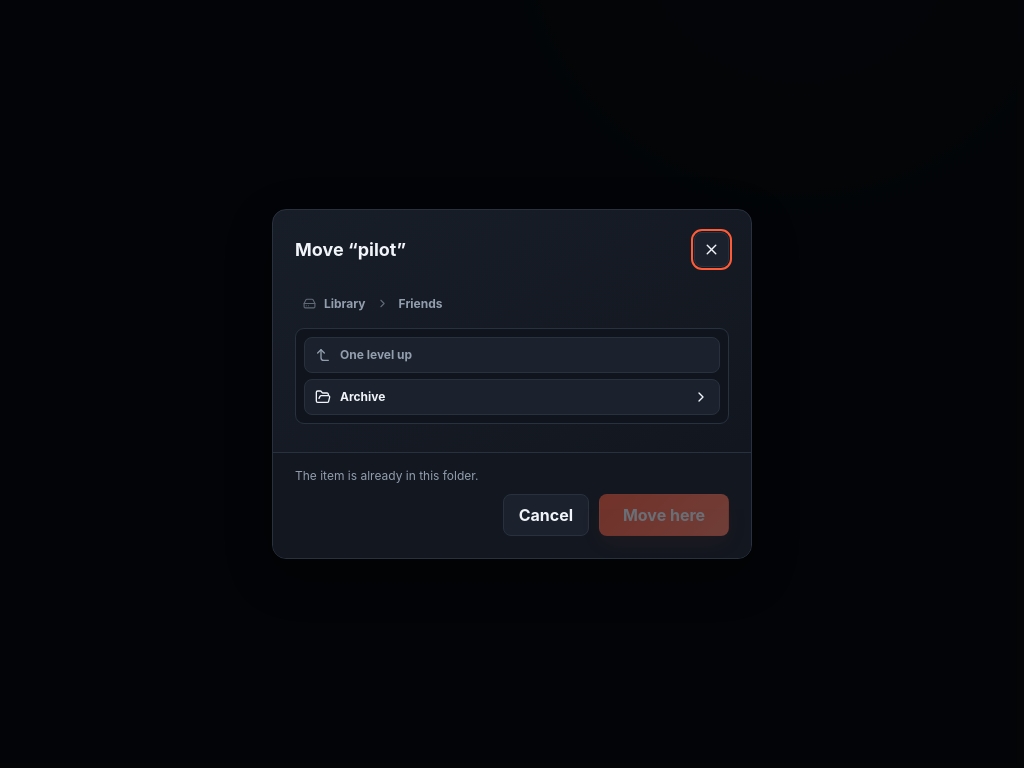
keeps the dialog open and says why when the queue refuses the item
This screenshot has width=1024, height=768.
Click the button "Archive" at (363, 397), box [304,379,720,415]
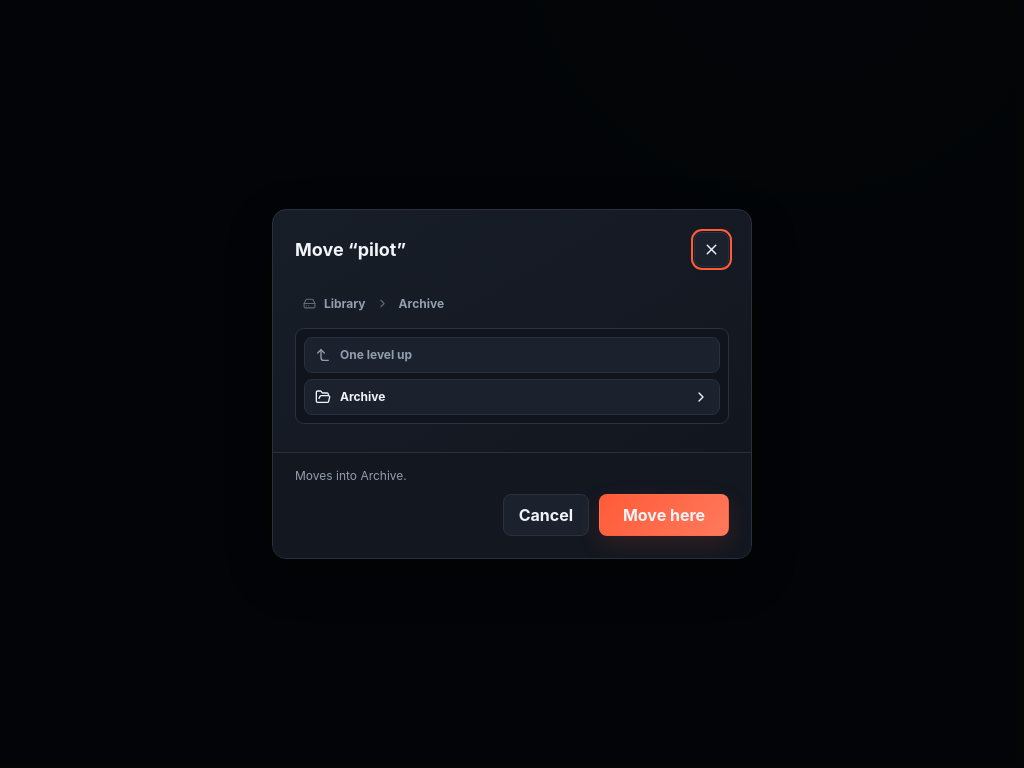
Click the button "Move here" at (664, 515), box [599,494,729,536]
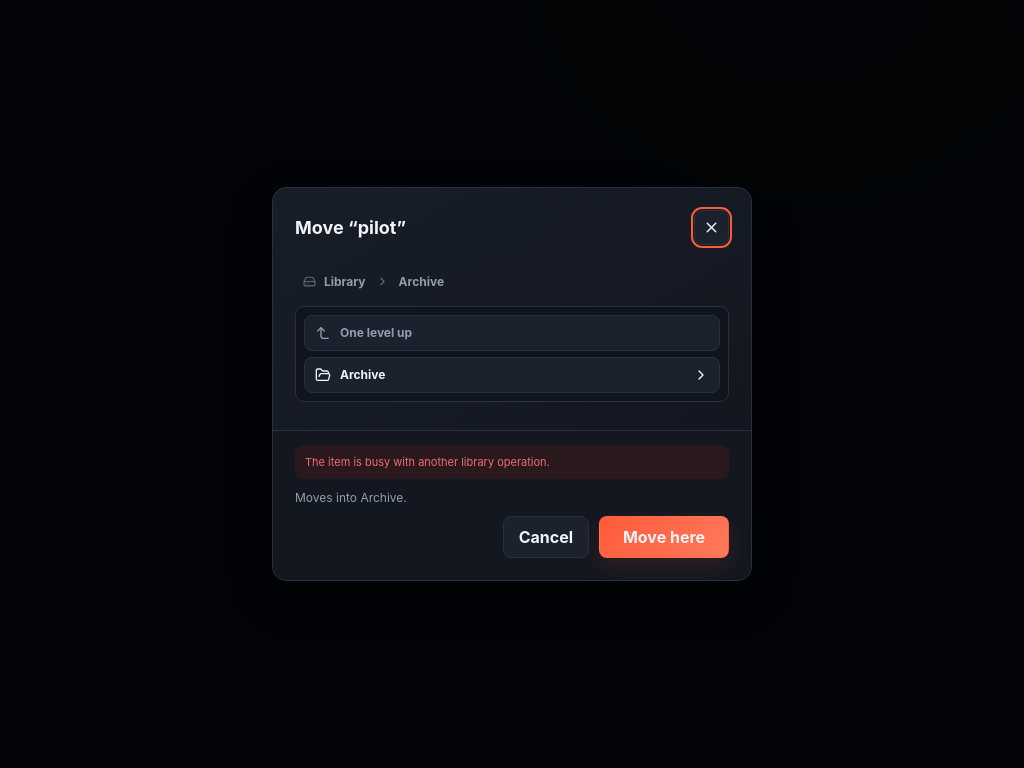
Now the button "Move here" is enabled, box [599,516,729,558]
Now the text "The item is busy with another library operation." is shown, box [295,445,729,479]
